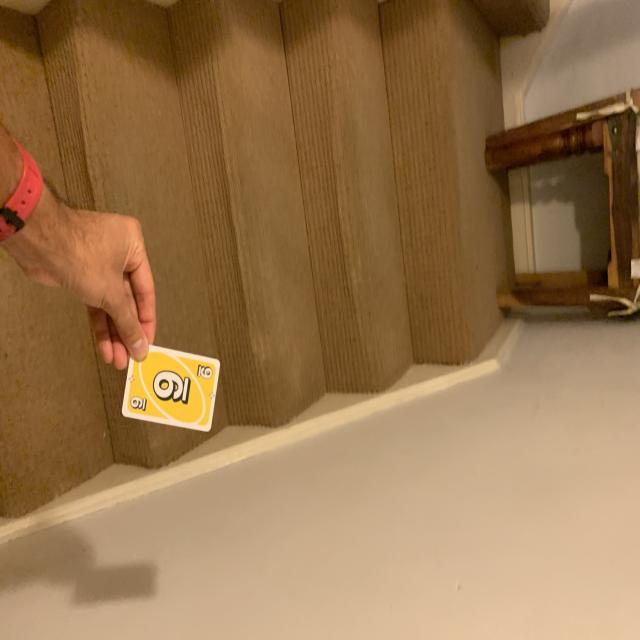lyellow-9: (194, 361, 216, 382)
